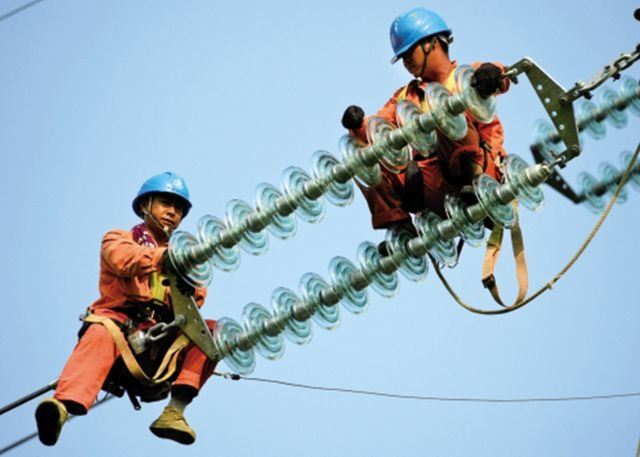blue: (385, 3, 454, 84), (129, 168, 194, 236)
